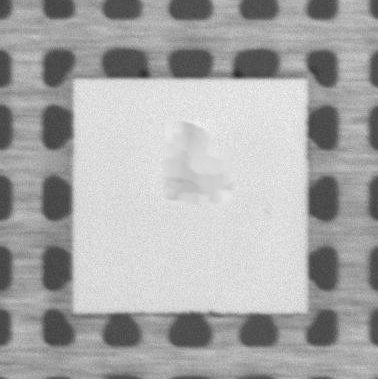DIE_INK: (159, 116, 234, 209)
